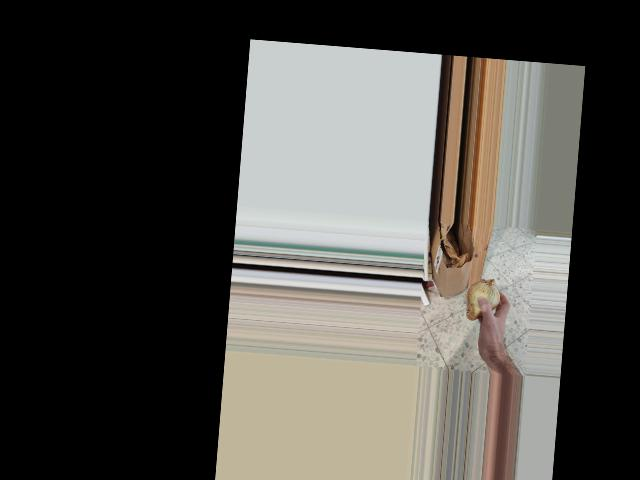onion: (462, 275, 506, 325)
